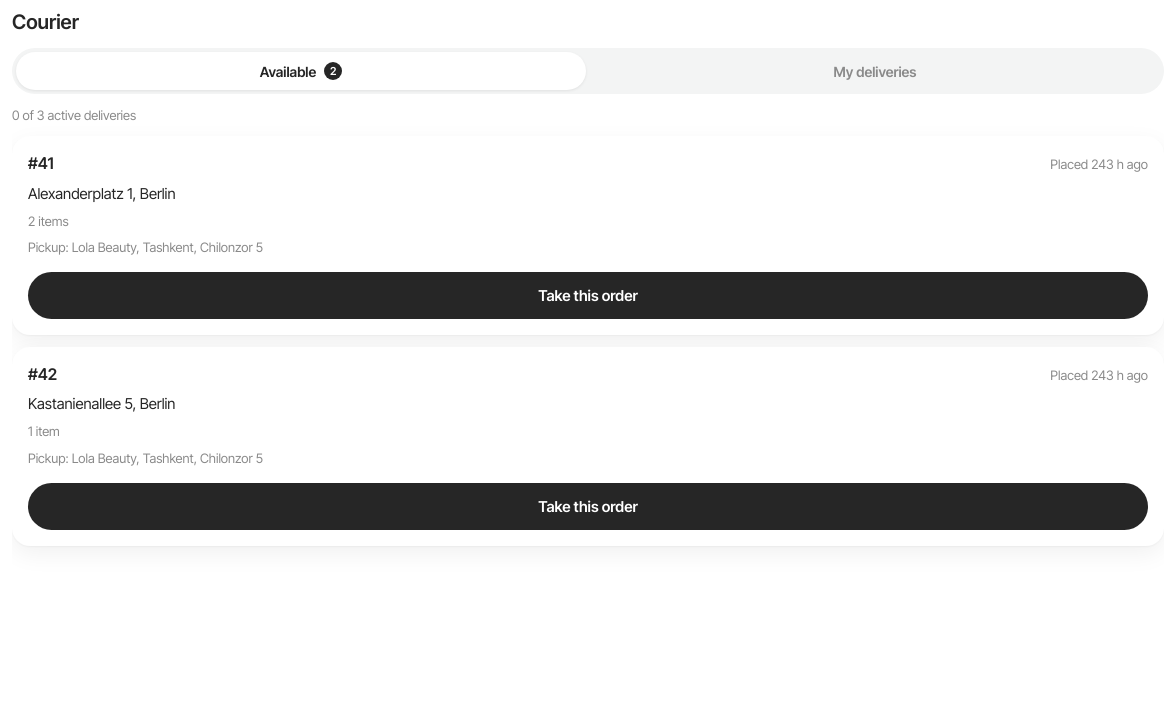
Test: CourierScreen: pool › explains the delivery limit
Click the button "Take this order" below "2 items": (588, 296) [28, 272, 1148, 319]
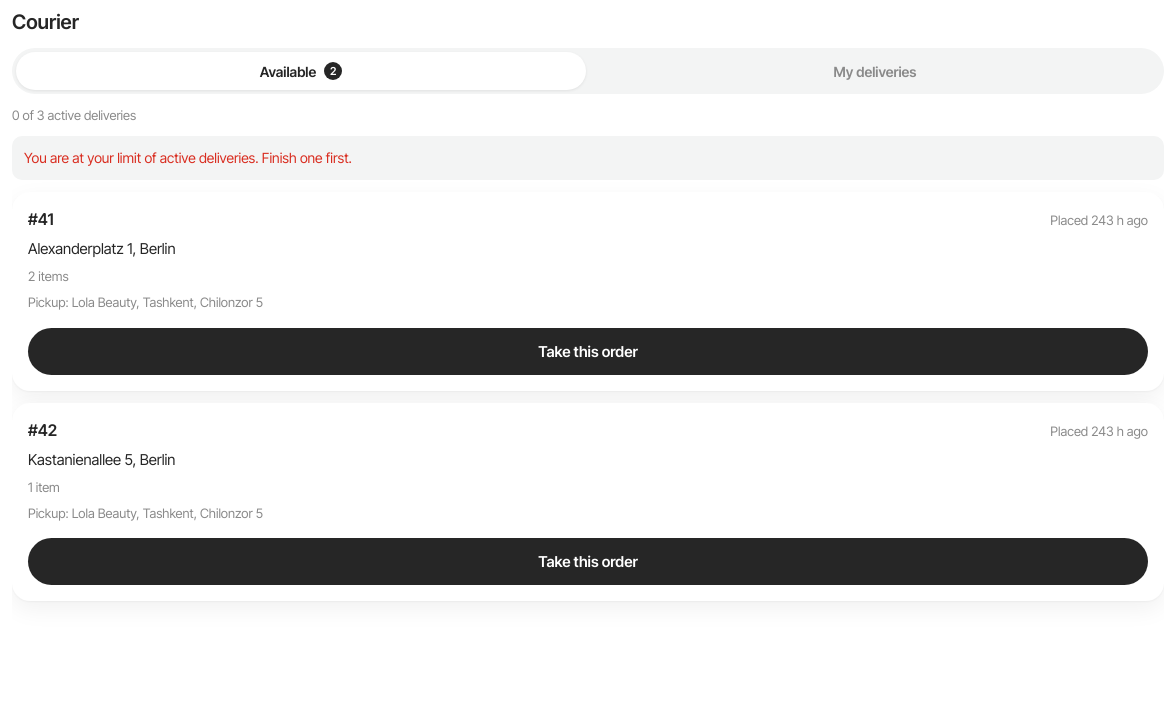
Check: the message shows "limit of active deliveries", box [24, 149, 352, 166]
